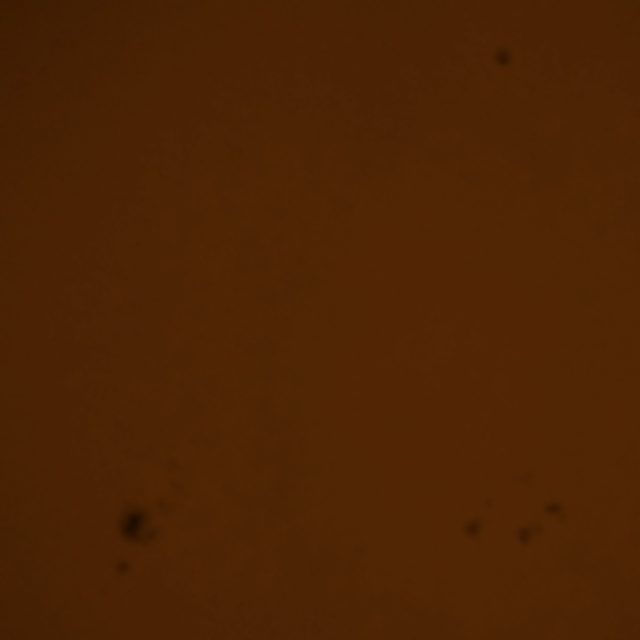sunspot: (460, 516, 483, 542), (112, 558, 133, 580), (542, 499, 564, 520), (492, 48, 512, 70)
